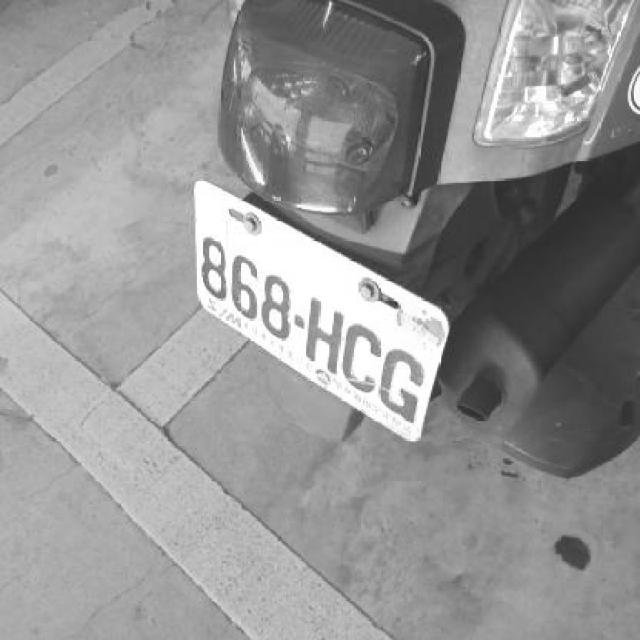-: (291, 311, 306, 331)
6: (230, 249, 258, 320)
8: (198, 231, 231, 303), (262, 272, 292, 342)
C: (337, 318, 385, 394)
G: (373, 340, 425, 421)
H: (302, 292, 342, 373)
